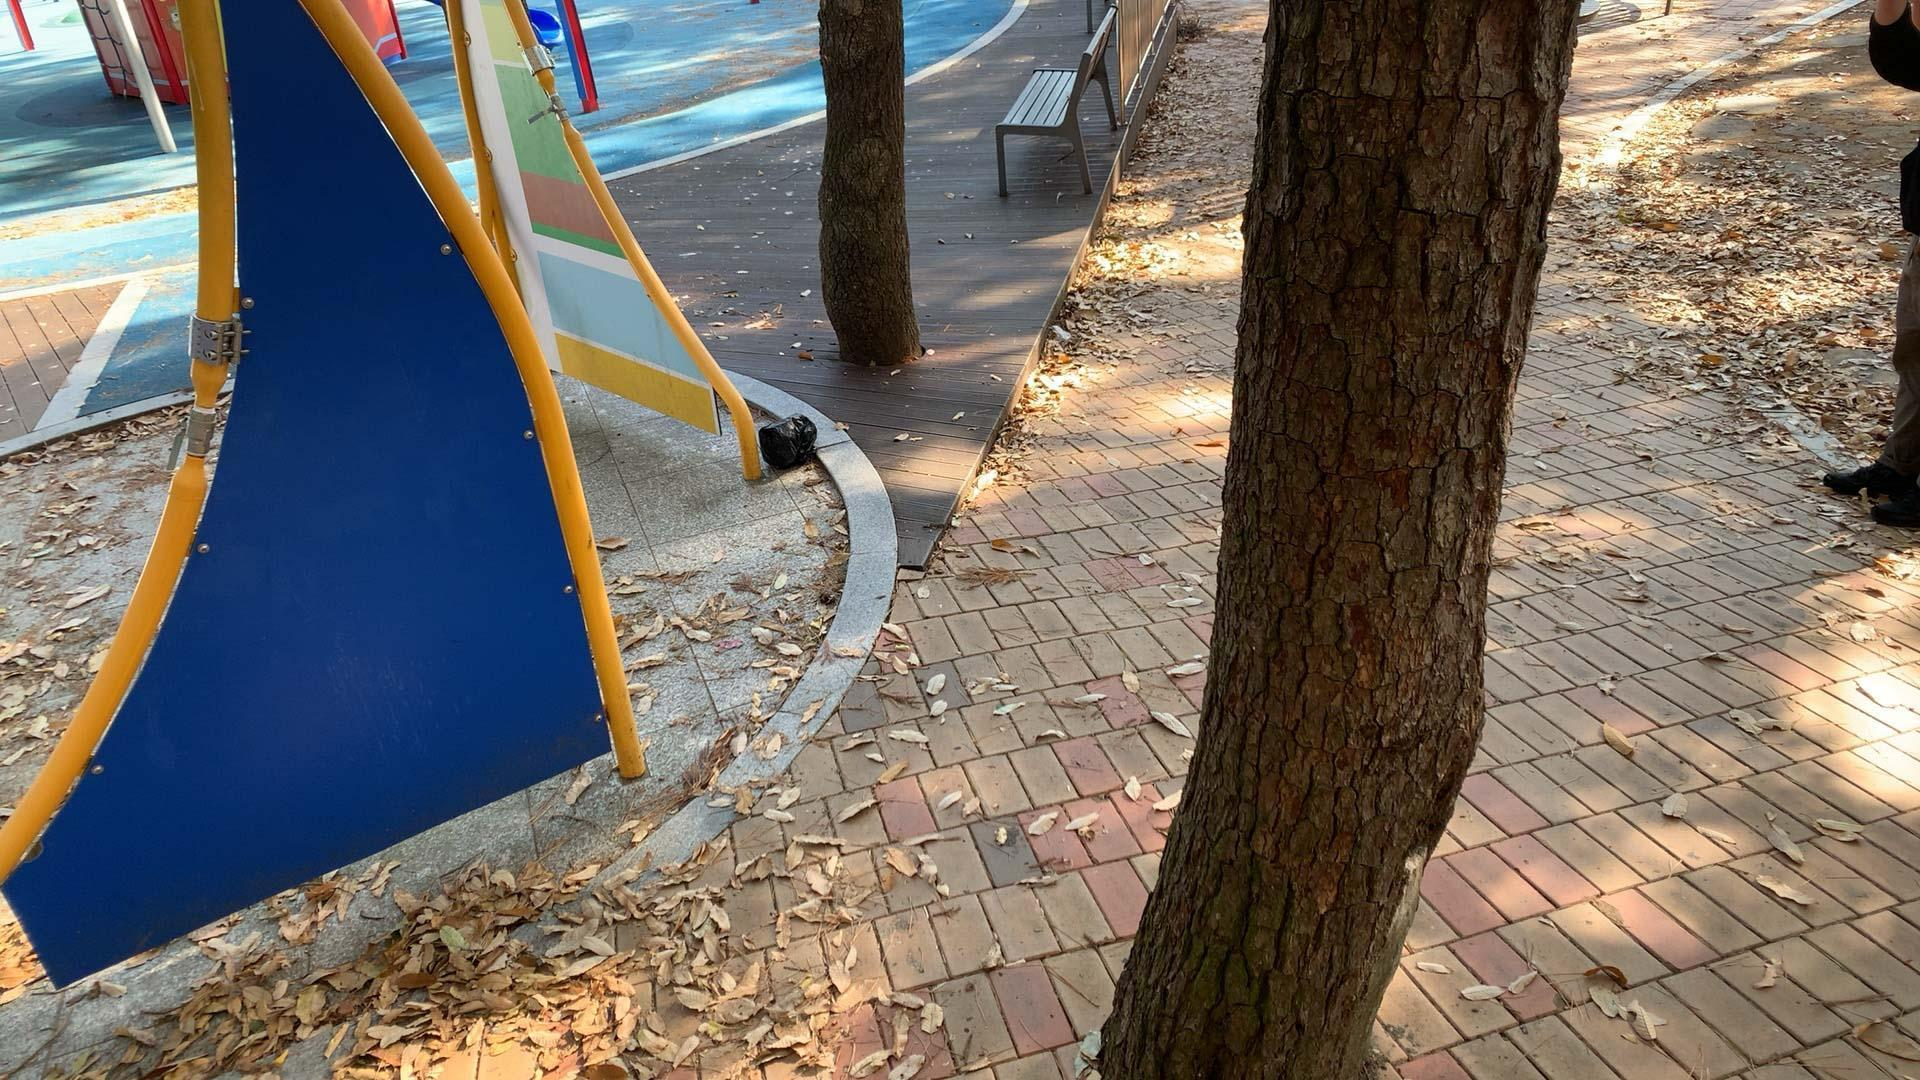black_bag: (751, 409, 824, 474)
